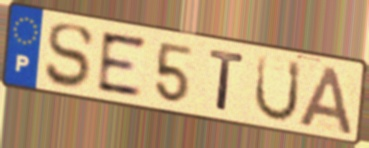5: (154, 40, 196, 105)
A: (296, 63, 356, 137)
E: (96, 29, 148, 98)
S: (43, 22, 96, 90)
T: (207, 47, 247, 114)
U: (252, 52, 304, 124)
